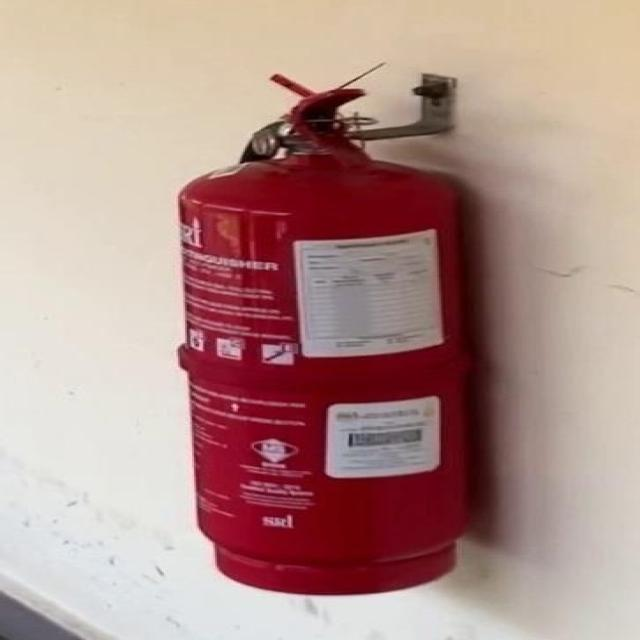fire_extinguisher: (171, 81, 485, 602)
